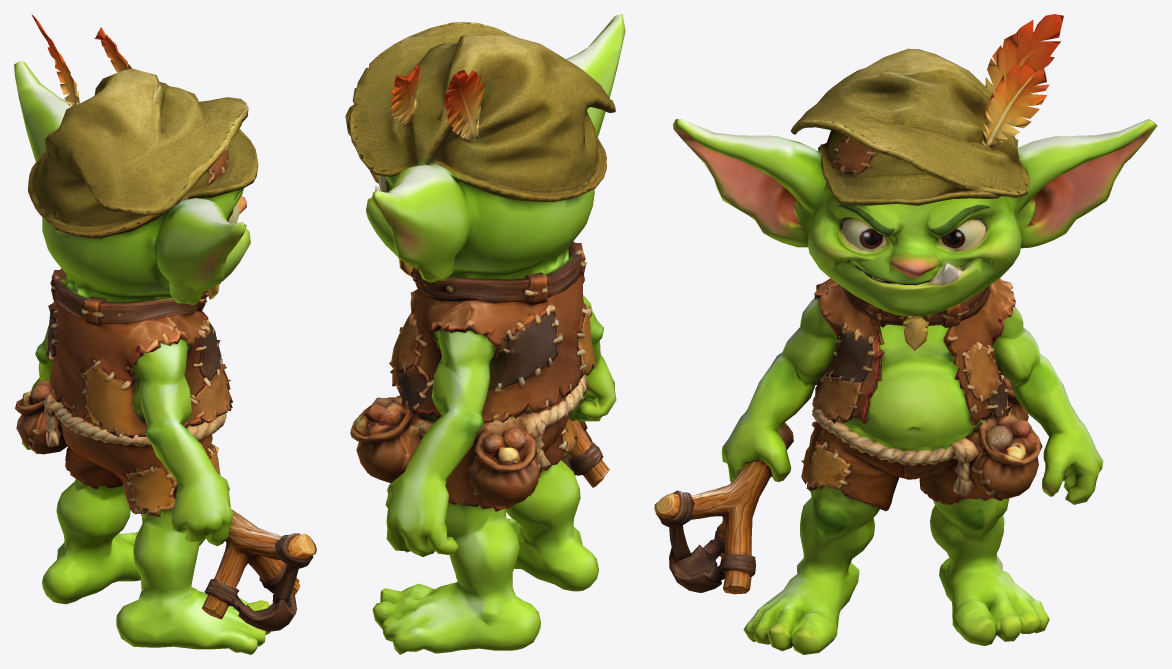
File: Mon_SlingshotGoblin_v2_HD_src.glb
3 renders of one model, left to right at view 1: azimuth 30°, elevation 25°; view 2: azimuth 150°, elevation 25°; view 3: azimuth 270°, elevation 25°, orthographic. The views are drawn at different scales.
Visible parts, largest first — view 1: tripo_node_943350a2-9192-44f8-be03-b0f39d598587; view 2: tripo_node_943350a2-9192-44f8-be03-b0f39d598587; view 3: tripo_node_943350a2-9192-44f8-be03-b0f39d598587.
Part boxes in pixels (bbox=[...]): tripo_node_943350a2-9192-44f8-be03-b0f39d598587: bbox=[14, 14, 316, 654]; tripo_node_943350a2-9192-44f8-be03-b0f39d598587: bbox=[345, 14, 625, 654]; tripo_node_943350a2-9192-44f8-be03-b0f39d598587: bbox=[654, 14, 1157, 654].
Bounding box in the file's own units: 0.3687 × 0.9783 × 0.759.
Materials: 1 (1 with a texture image).
